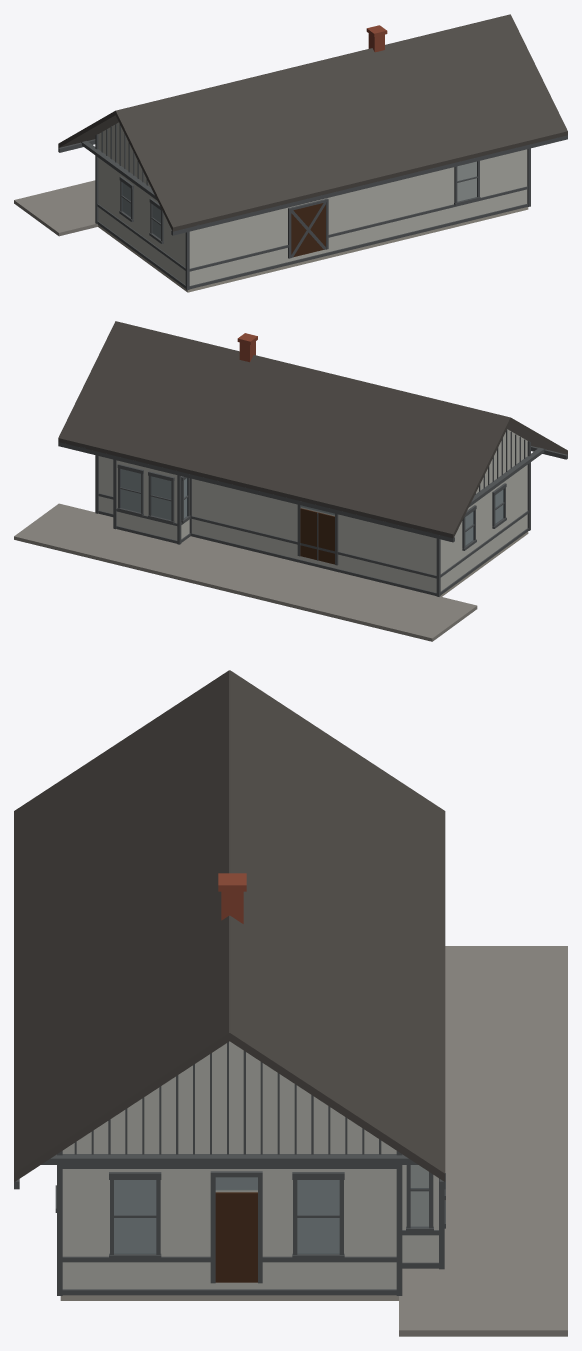
File: Abrams_Depot.glb
The picture shows the model from 3 angles, top to bottom: view 1: azimuth 30°, elevation 25°; view 2: azimuth 150°, elevation 25°; view 3: azimuth 270°, elevation 25°; orthographic projection. The views are drawn at different scales.
Parts seen in each view (by area): view 1: roof, walls, trim, platform, foundation, doors, glass, sash, chimney; view 2: roof, walls, platform, trim, glass, sash, doors, chimney; view 3: roof, walls, platform, trim, glass, sash, doors, foundation, chimney.
Part boxes in pixels (x1,y1,x2,y2): roof: (58, 14, 567, 231); walls: (98, 122, 527, 285); trim: (58, 124, 567, 290); platform: (14, 180, 97, 236); foundation: (98, 207, 528, 292); doors: (291, 203, 325, 257); glass: (122, 162, 476, 238); sash: (119, 161, 480, 243); chimney: (366, 25, 387, 52); roof: (58, 321, 567, 538); walls: (99, 429, 527, 592); platform: (14, 503, 477, 641); trim: (58, 429, 567, 596); glass: (121, 469, 503, 545); sash: (117, 464, 506, 550); doors: (300, 508, 334, 564); chimney: (237, 333, 257, 362); roof: (14, 670, 445, 1181); walls: (62, 1041, 438, 1289); platform: (399, 946, 567, 1336); trim: (14, 1042, 445, 1295); glass: (114, 1165, 428, 1253); sash: (55, 1165, 445, 1260); doors: (215, 1192, 257, 1282); foundation: (60, 1295, 398, 1300); chimney: (218, 873, 246, 923).
Size of the model in its own units: 0.6779 by 0.267 by 0.4131.
